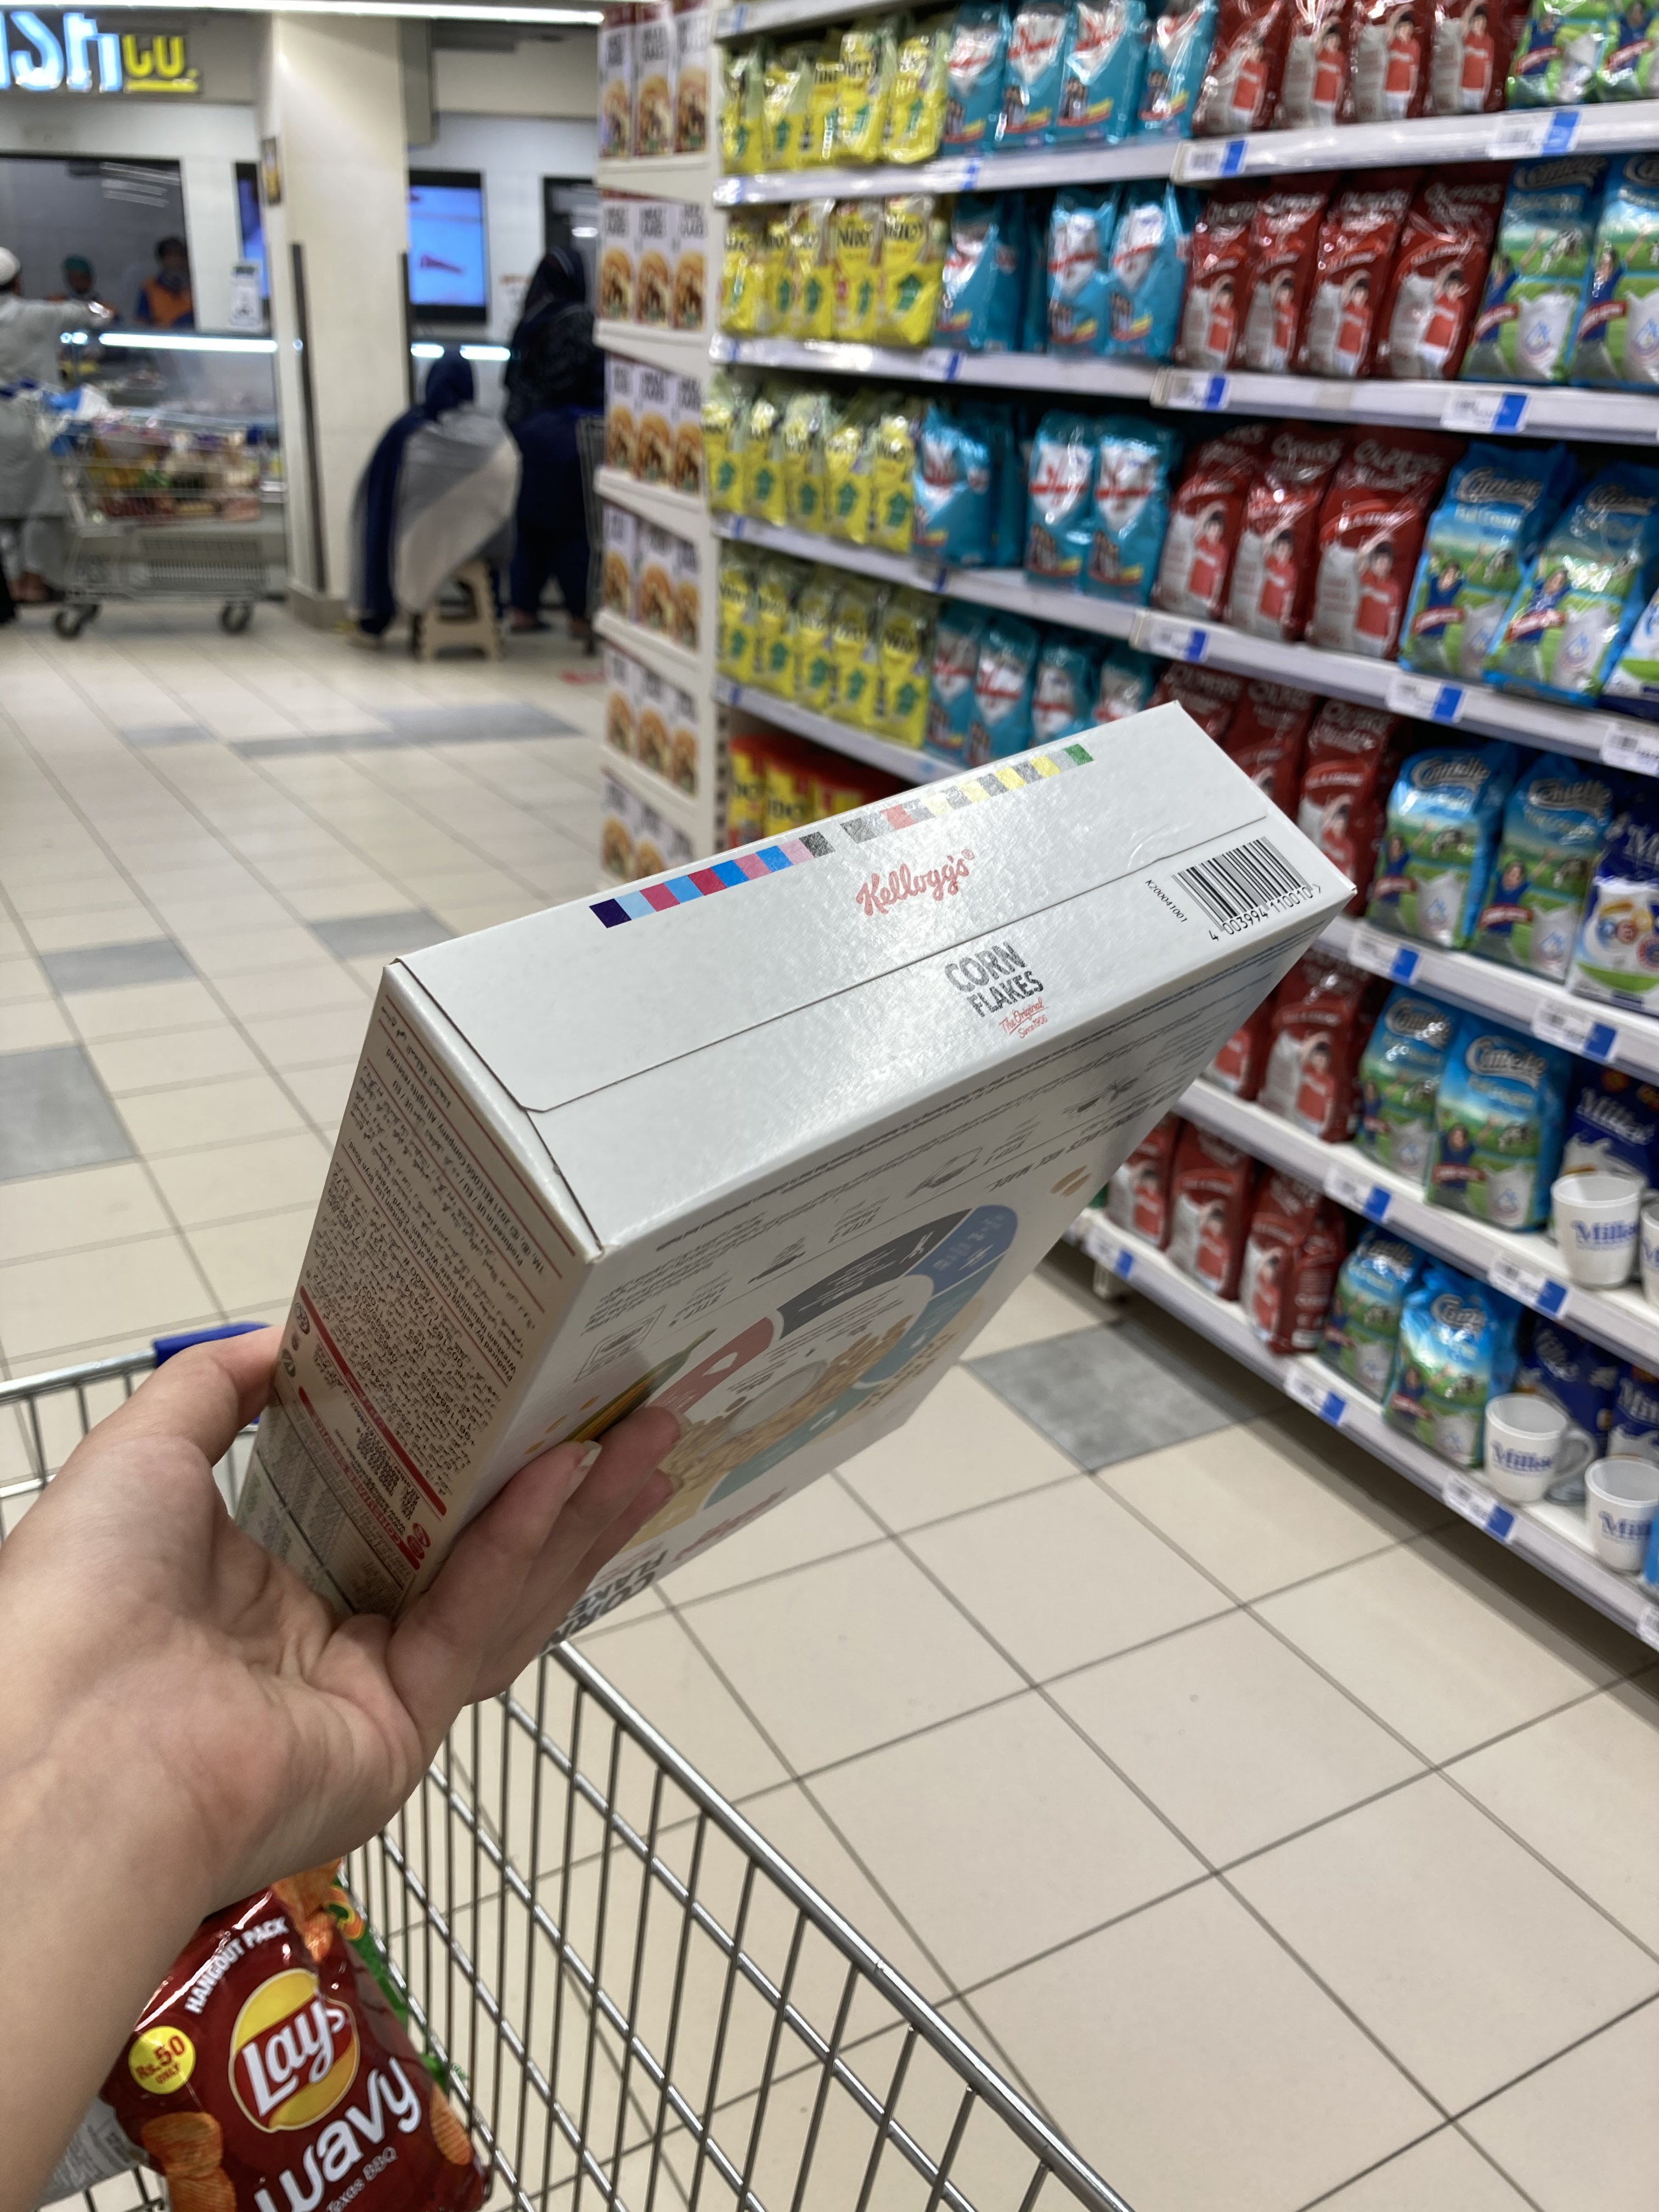Kellogg's Corn Flakes: (275, 705, 1366, 1602)
